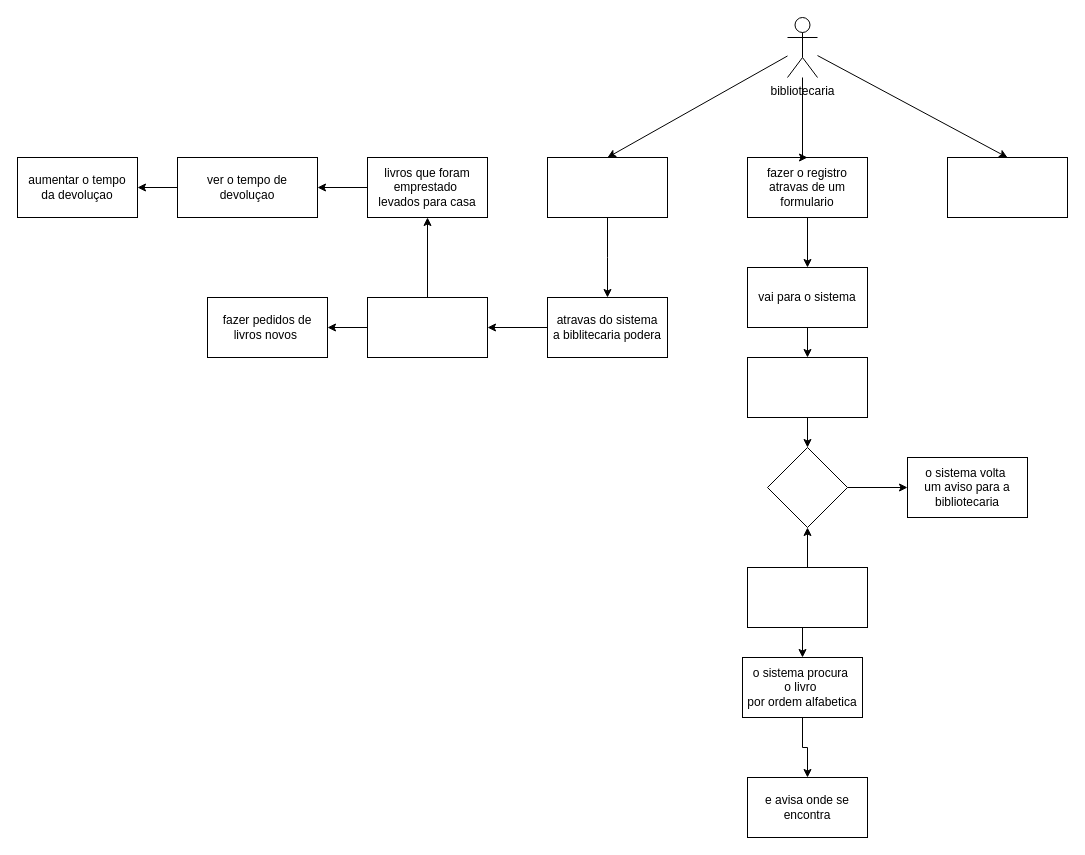
The diagram is 1085 pixels wide and 855 high, and some of its shapes have lost their labels. The box of each missing label's shape, as (x1, y1, x2, y2) in pixels:
aceita nega: (766, 446, 848, 528)
gereciamento do estoque: (546, 156, 668, 218)
se permitir: (746, 566, 868, 628)
ver os livros que estao desponiveis: (366, 296, 488, 358)
verifica a permissoes do aluno: (746, 356, 868, 418)
